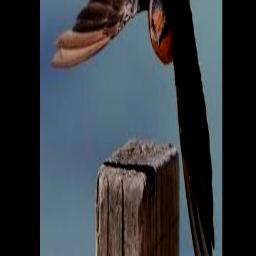Swallow: (51, 0, 219, 256)
